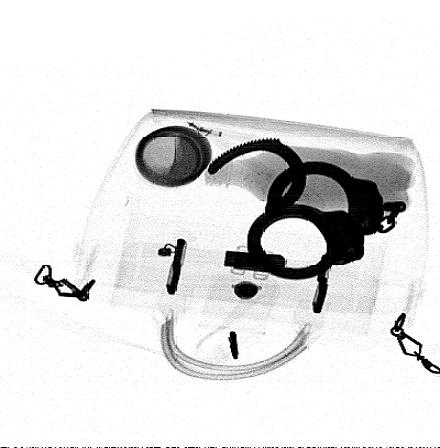HandCuffs: (204, 135, 409, 314)
